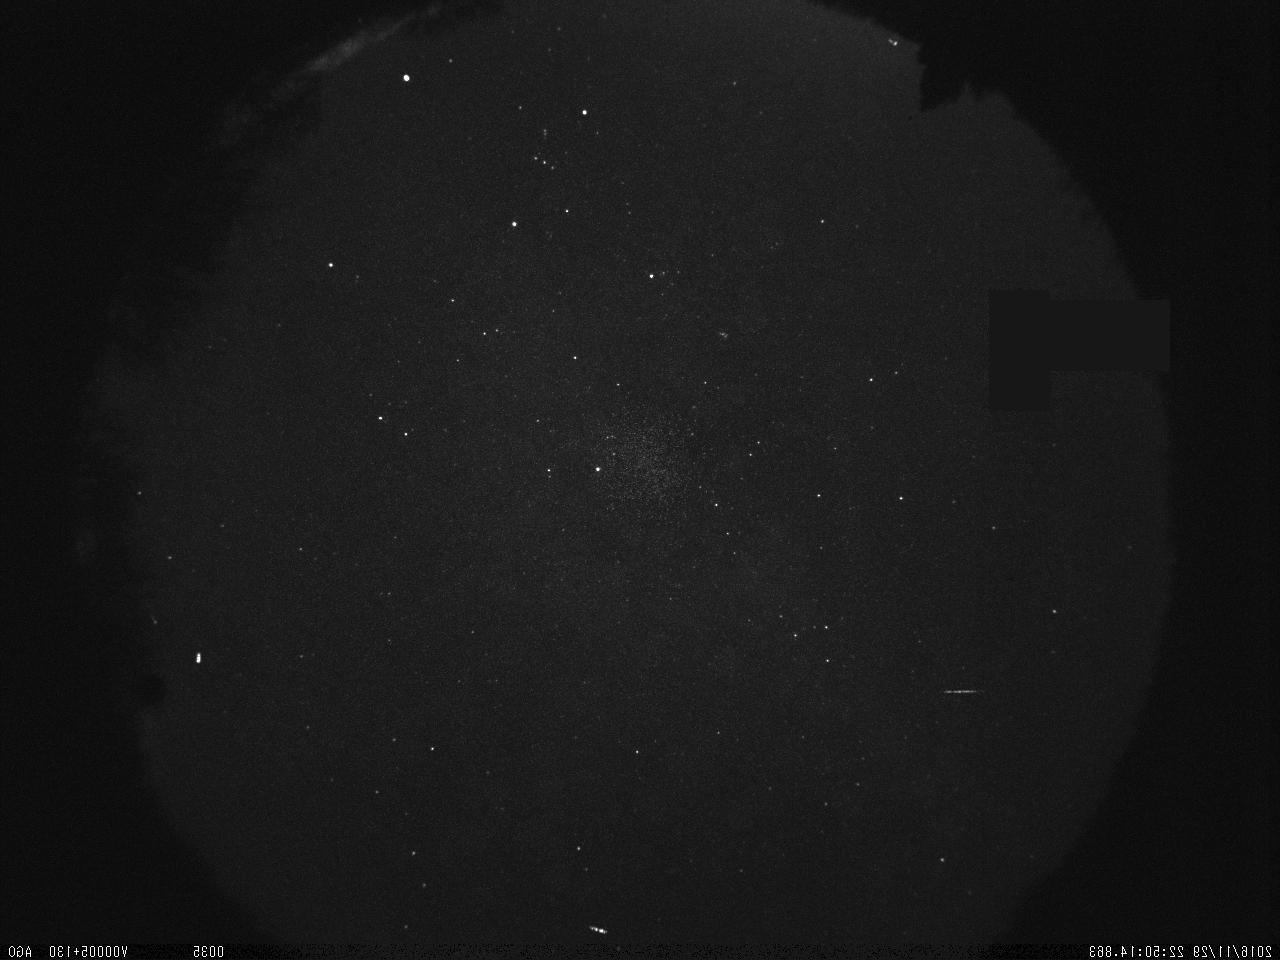meteor: (929, 676, 996, 707)
